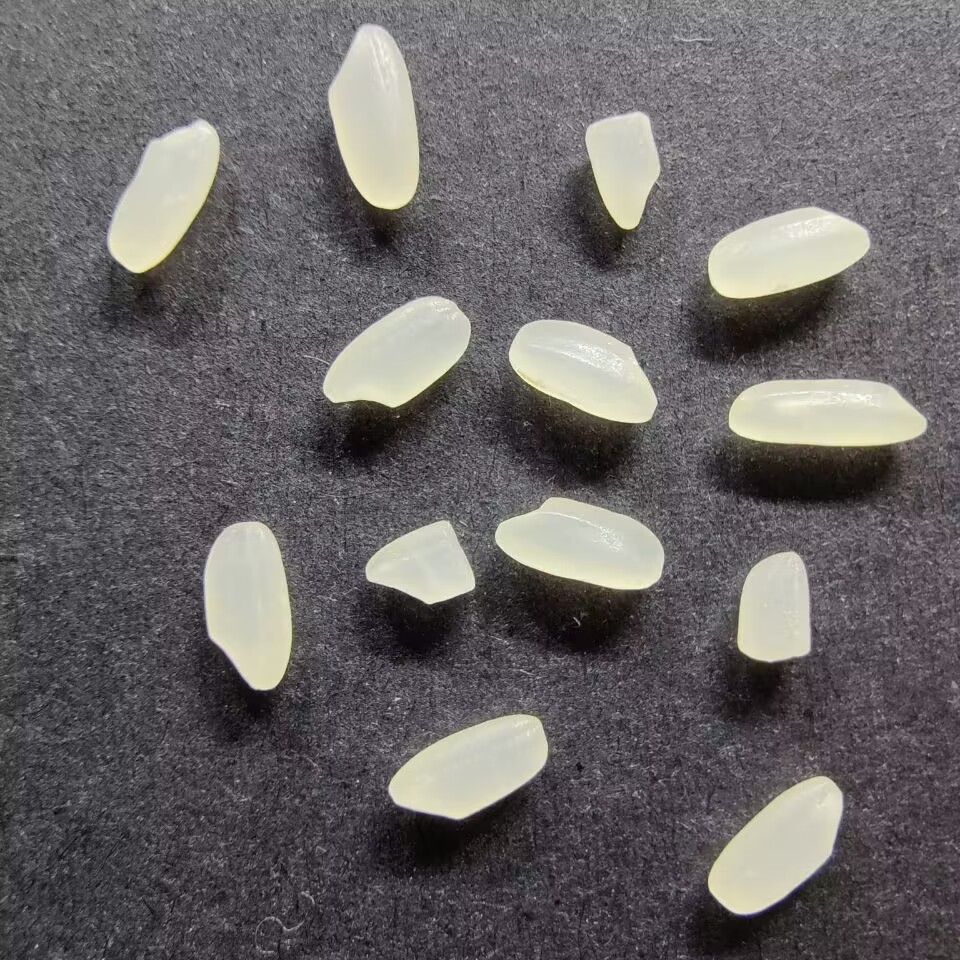broken: (362, 518, 477, 606), (583, 111, 661, 230), (735, 549, 811, 663)
rice: (706, 775, 844, 917), (106, 117, 221, 275), (325, 23, 420, 211), (386, 713, 548, 822), (321, 294, 473, 408), (492, 495, 666, 591), (506, 318, 658, 424), (201, 520, 294, 691), (706, 205, 871, 299), (727, 376, 928, 448)
